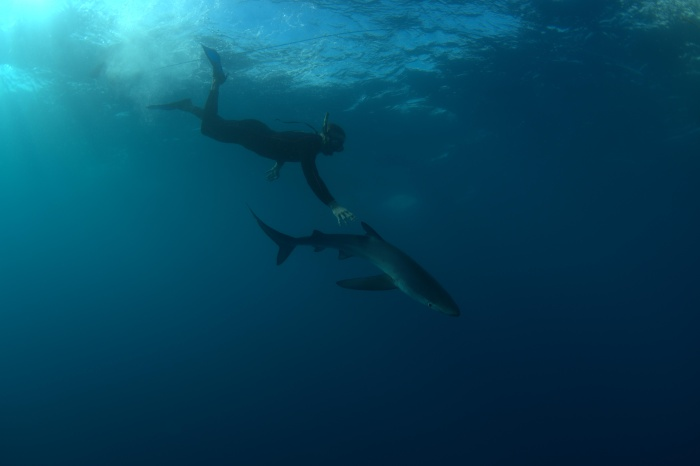Azul: (242, 205, 466, 328)
